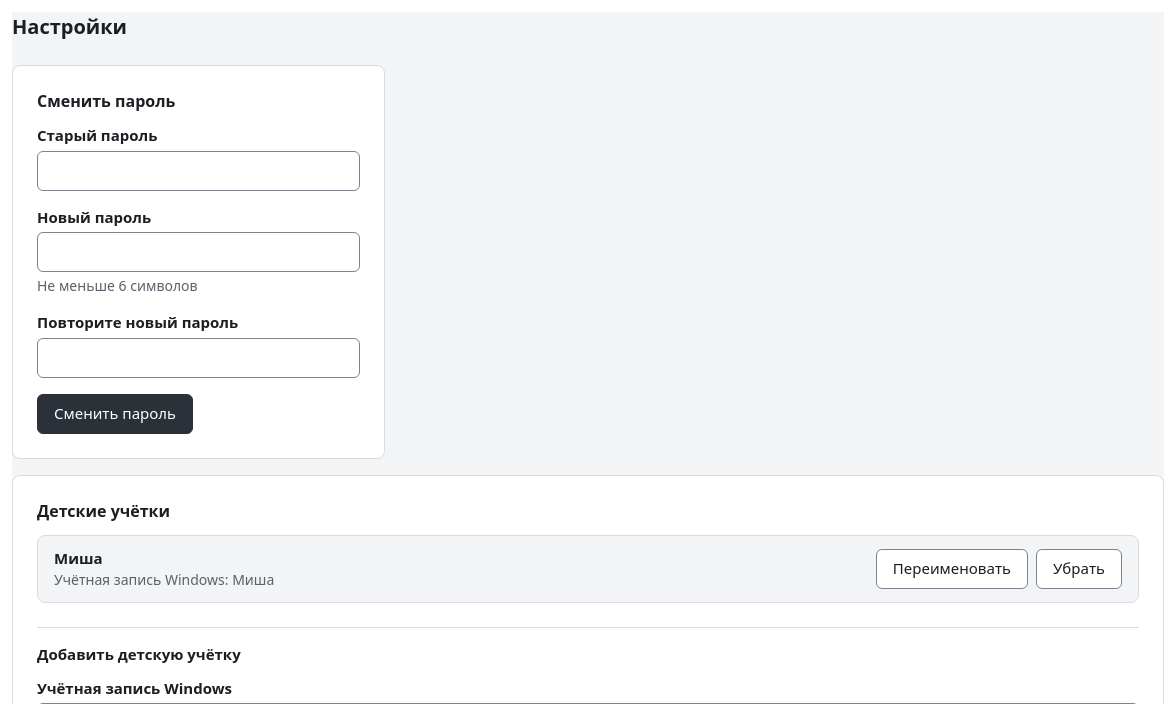
Test: Settings: сменить пароль › успех: «Пароль изменён», поля очищены, новый пароль действует
Type "секрет-123" into the password field labelled "Старый пароль". click: x=199, y=171
box: [37,151,360,191]
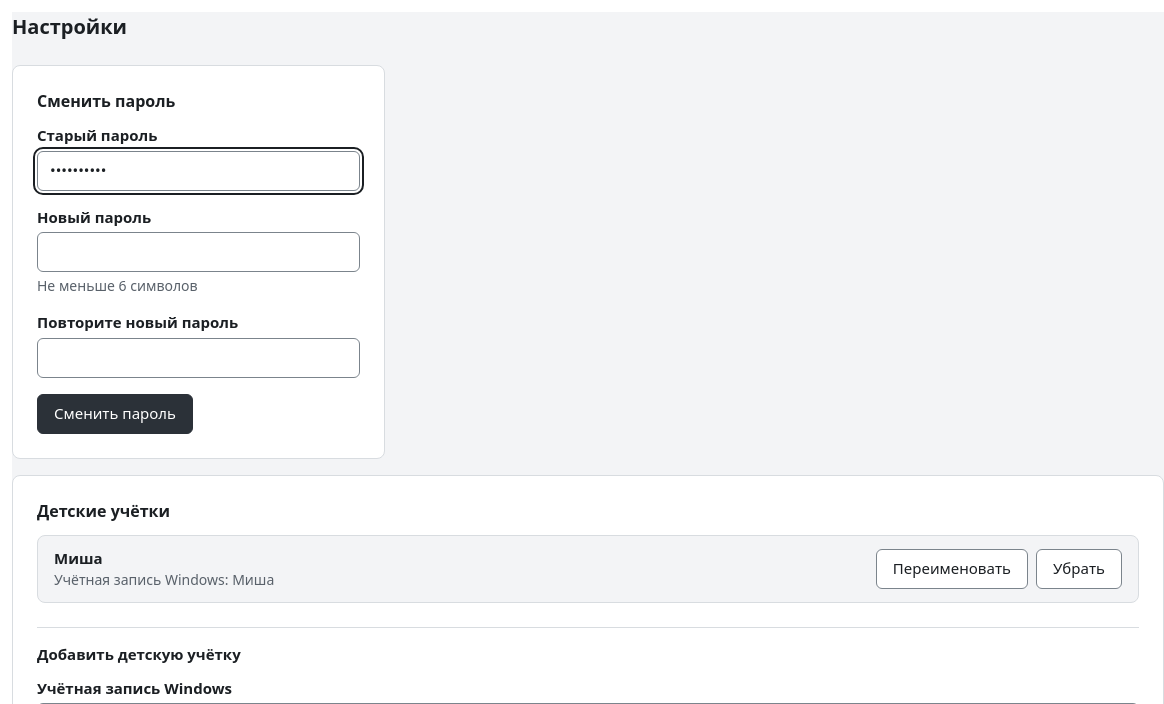
Type "новый-секрет" into the password field labelled "Новый пароль". click: x=199, y=252
box: [37,232,360,272]
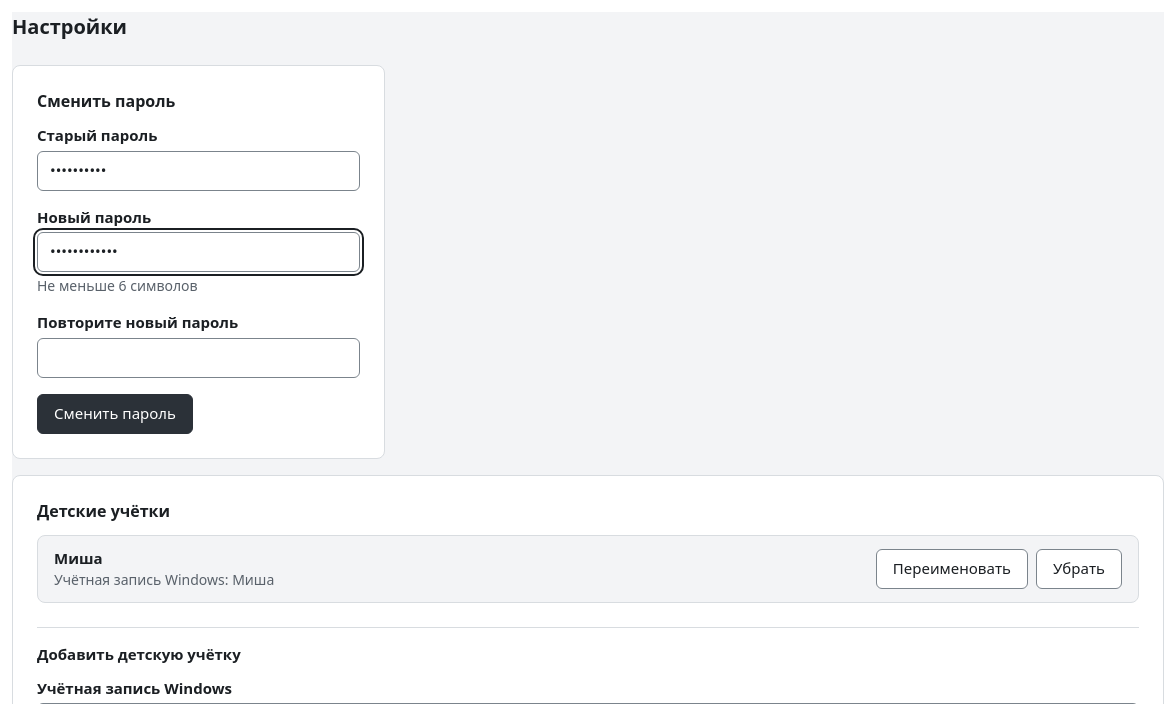
Type "новый-секрет" into the password field labelled "Повторите новый пароль". click: x=199, y=358
box: [37,338,360,378]
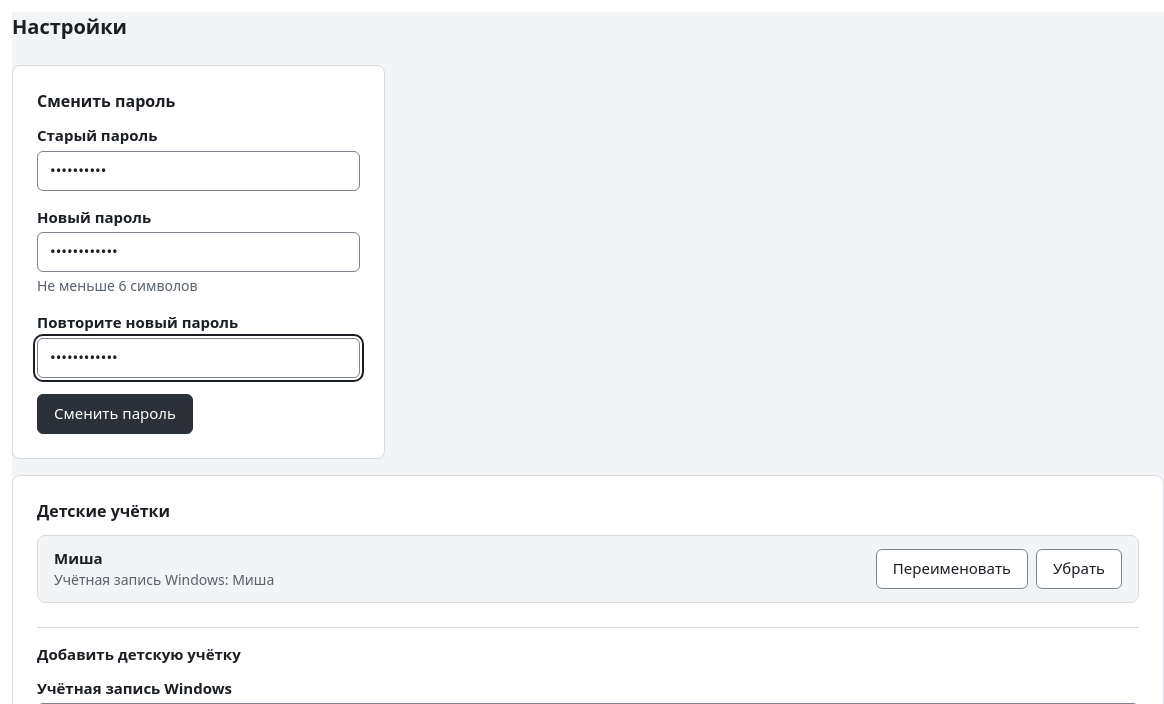
Click the button "Сменить пароль". click: x=115, y=414
box: [37,394,193,434]
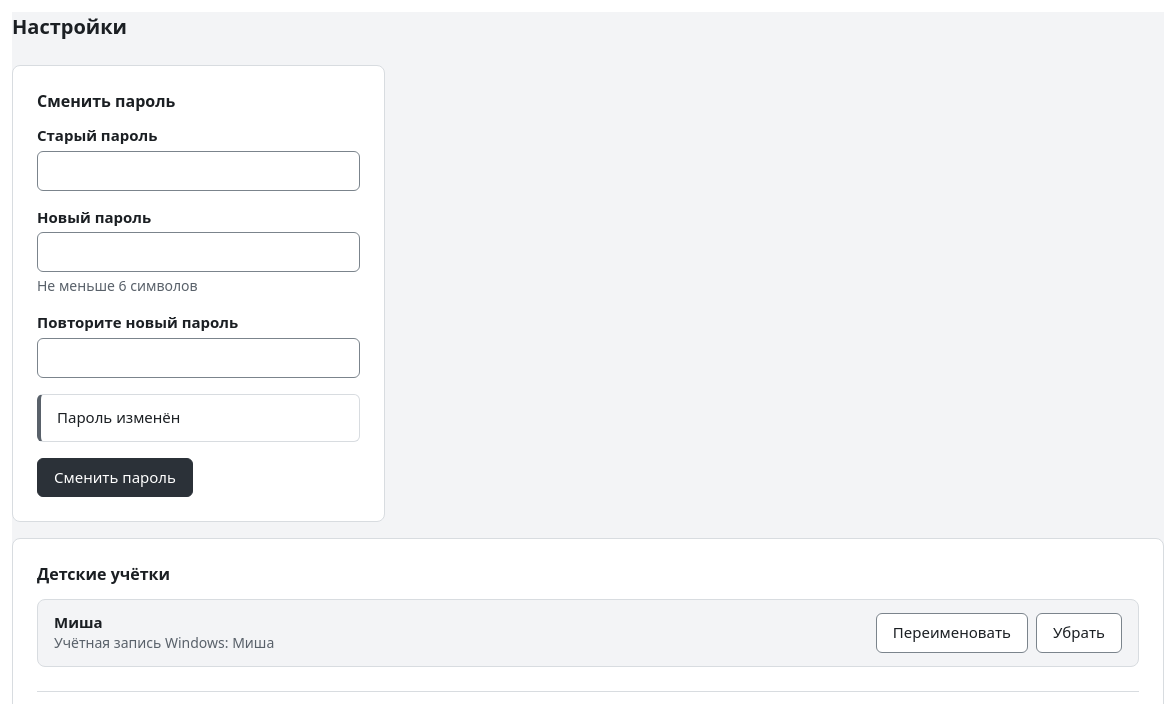
expect the text "Пароль изменён" is shown: met, box [37,394,360,442]
expect the password field labelled "Старый пароль" is empty: met, box [37,151,360,191]
expect the password field labelled "Новый пароль" is empty: met, box [37,232,360,272]
